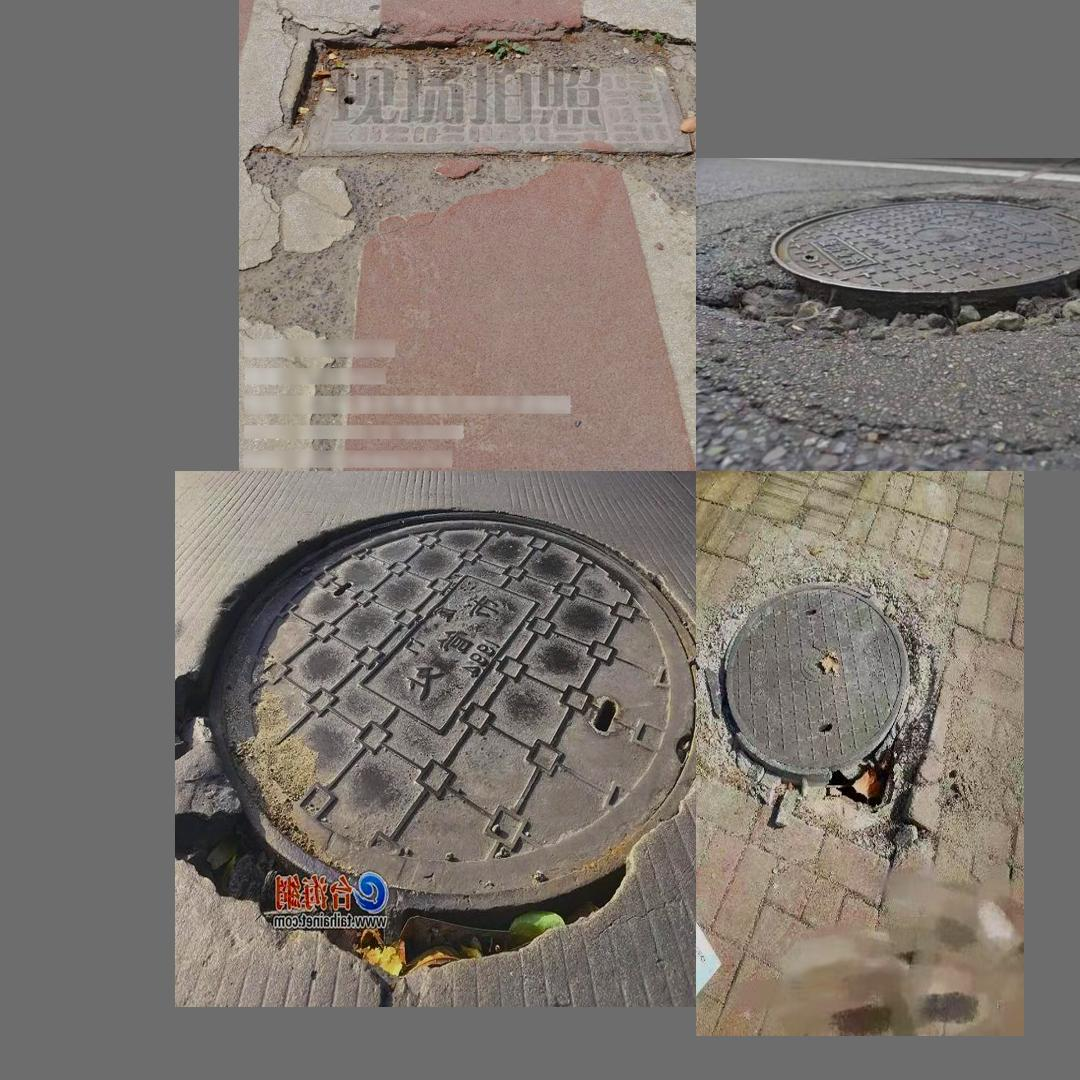circle: (185, 504, 682, 983), (705, 188, 1080, 357), (696, 568, 942, 803), (276, 31, 696, 163)
